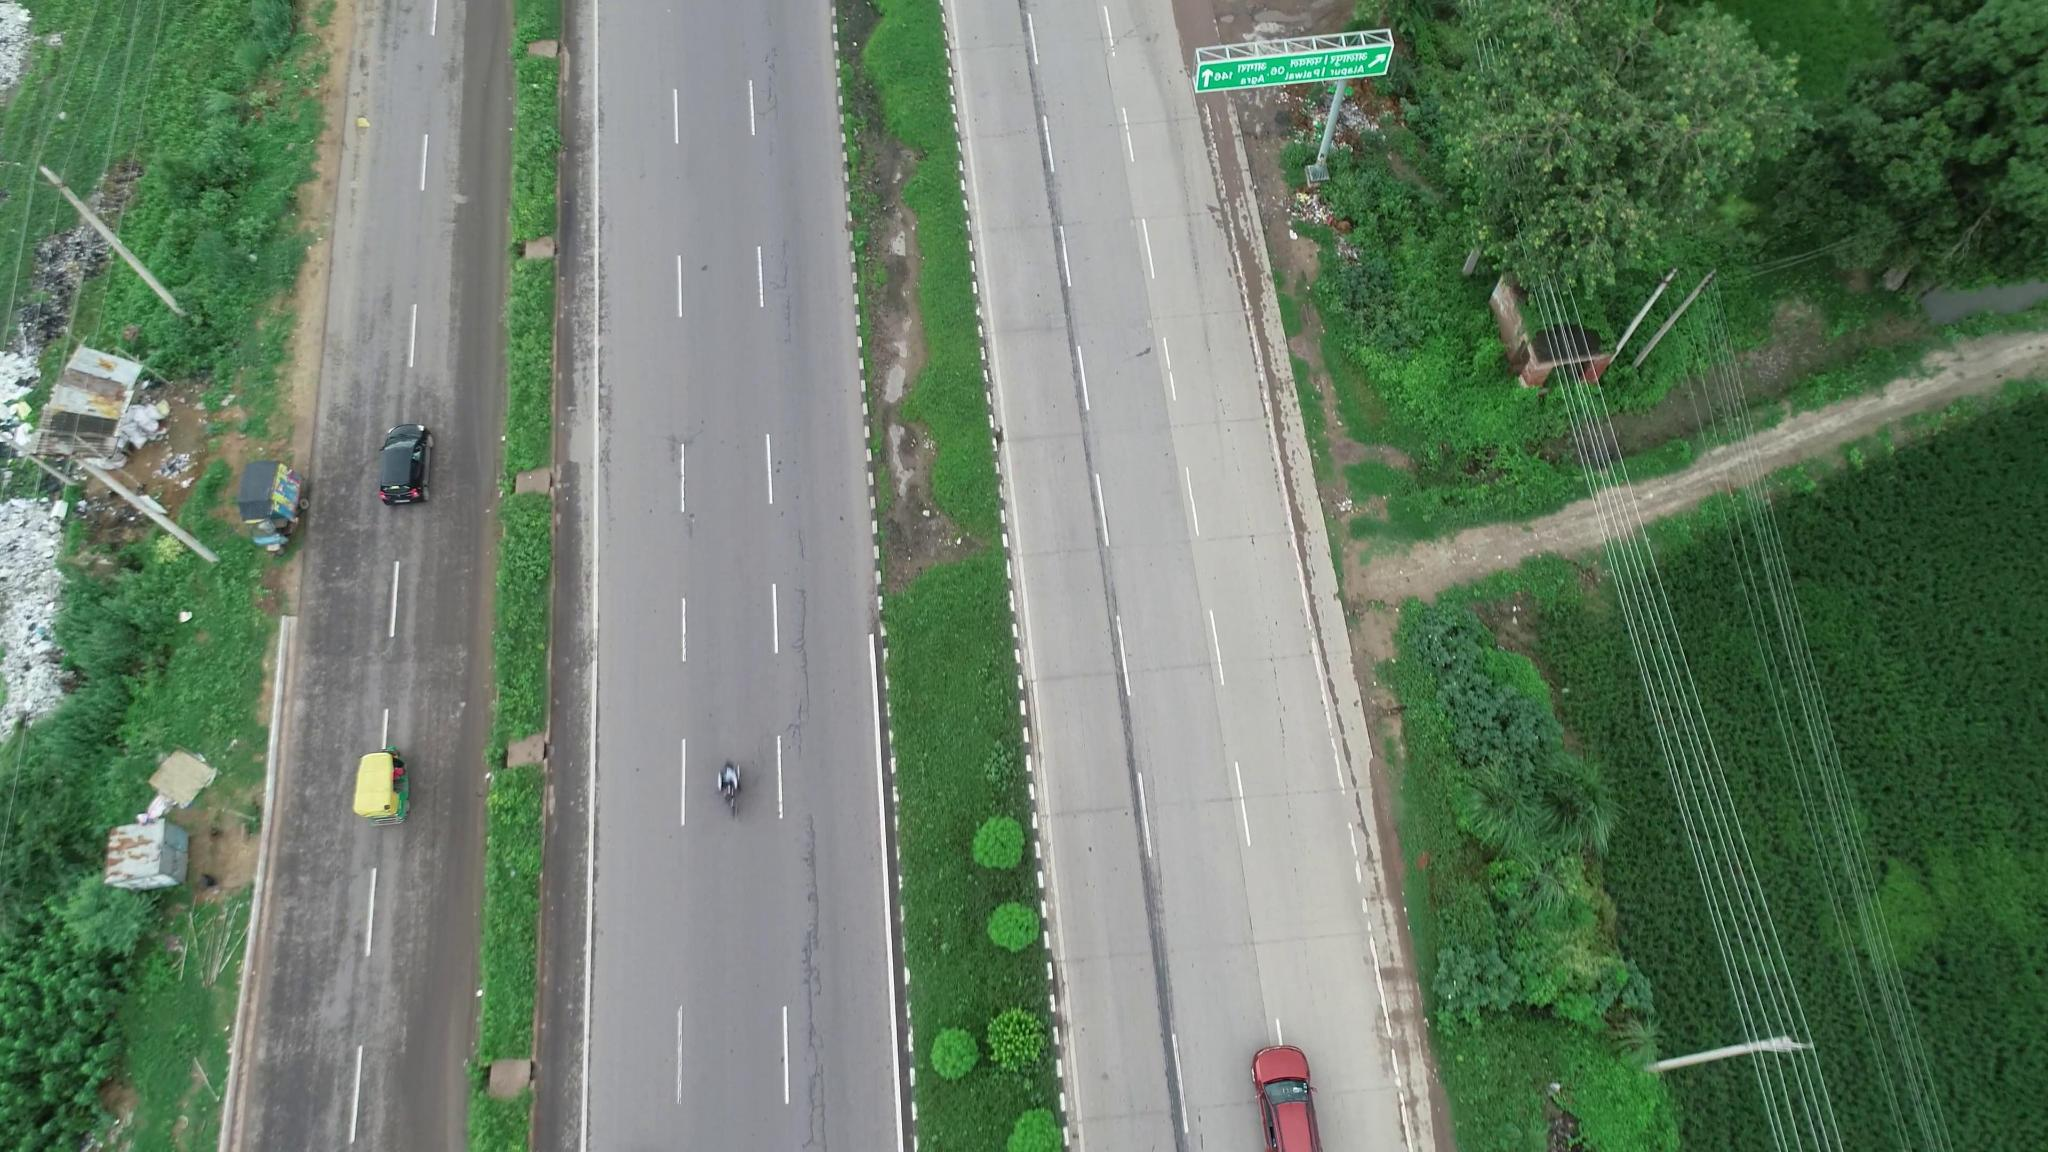Cracks: (791, 530, 843, 1137)
